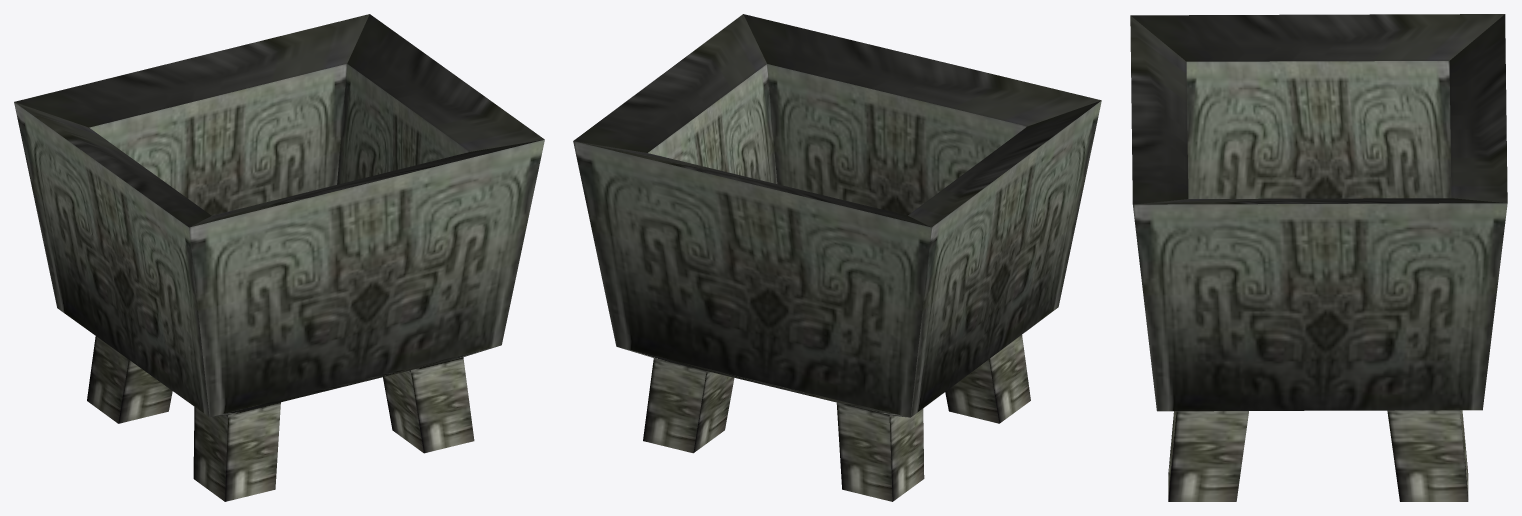
The model's file is Item08.FBX.
3 views of the same model, side by side, from view 1: azimuth 30°, elevation 25°; view 2: azimuth 150°, elevation 25°; view 3: azimuth 270°, elevation 25° (orthographic). The views are drawn at different scales.
Parts seen in each view (by area): view 1: Item08; view 2: Item08; view 3: Item08.
Boxes of the visible parts, bbox=[...] form: Item08: bbox=[14, 14, 544, 501]; Item08: bbox=[573, 14, 1101, 501]; Item08: bbox=[1130, 14, 1507, 501].
Size of the model in its own units: 14.41 by 11.5 by 12.06.
Materials: 1 (1 with a texture image).
